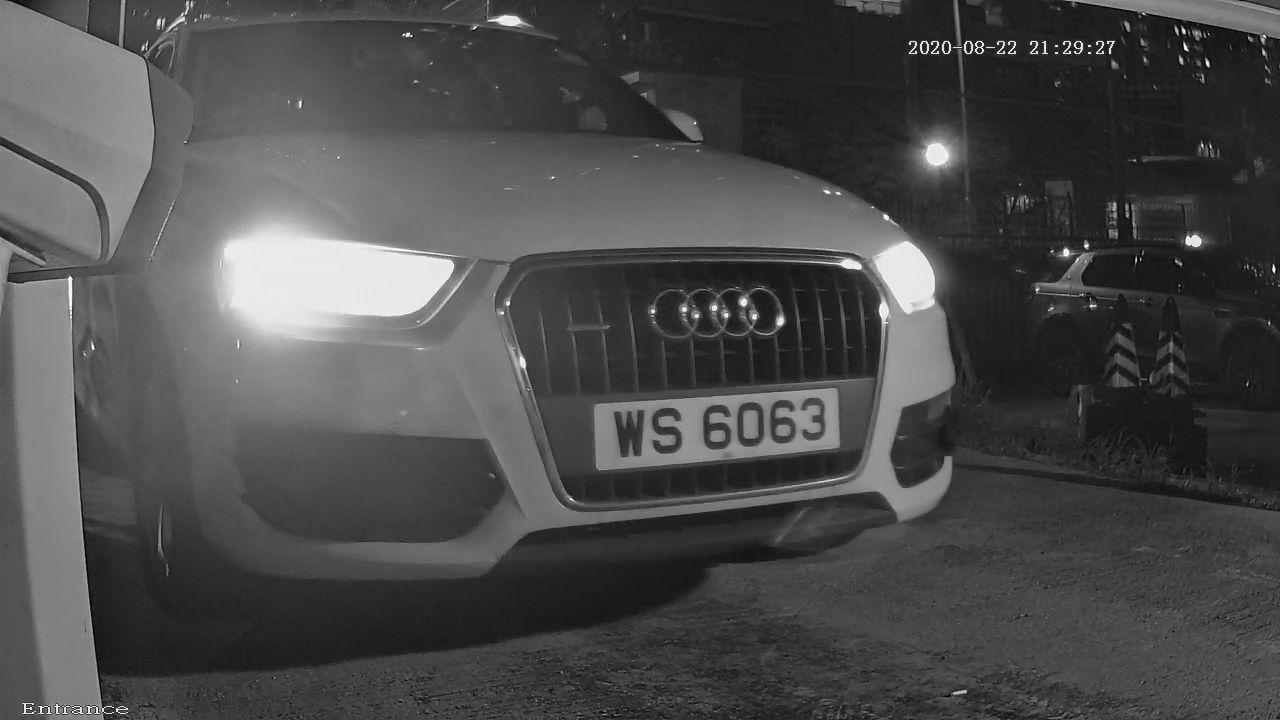Car: (1, 17, 1018, 631)
License Plate: (556, 354, 875, 510)
